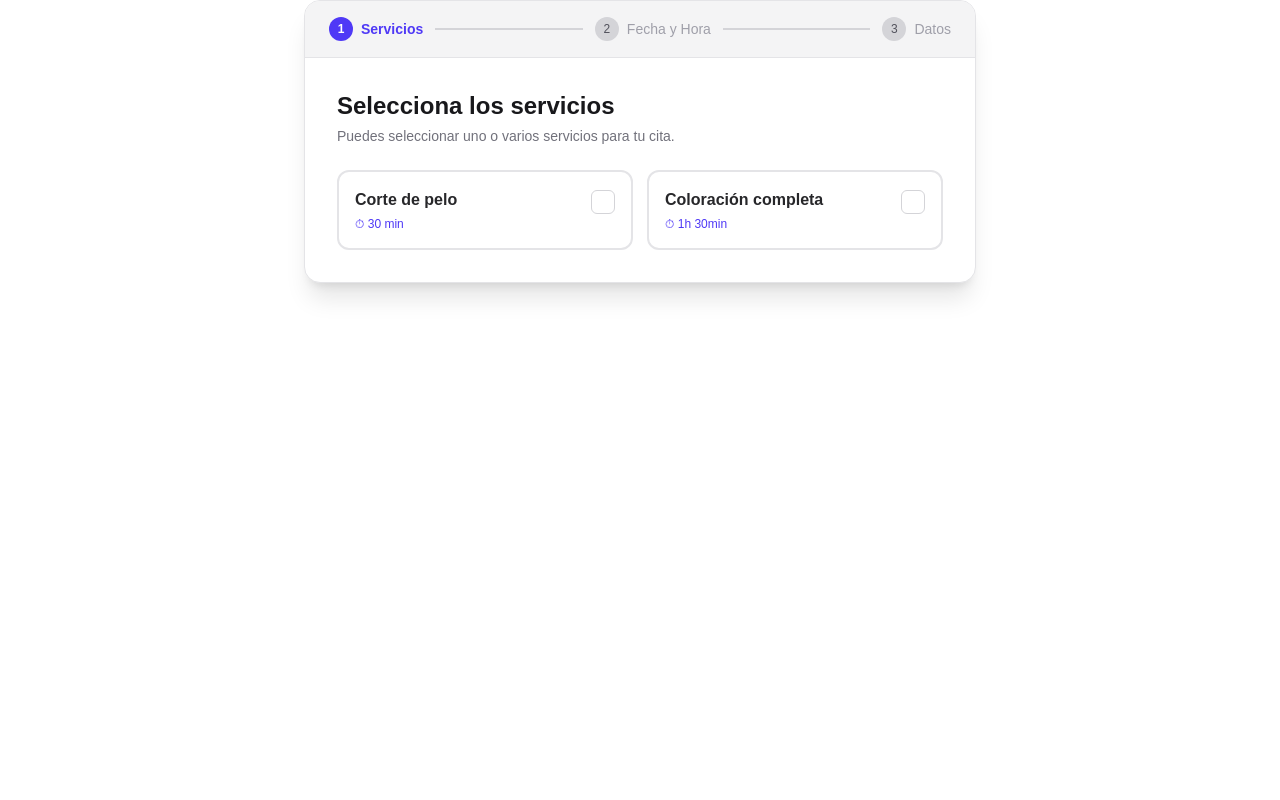
Test: BookingWizard Component › advances through the wizard steps to submit booking
Note: Select service and click Continuar
Click the text "Corte de pelo" at coordinates (406, 200), box x1=355 y1=188 x2=457 y2=212
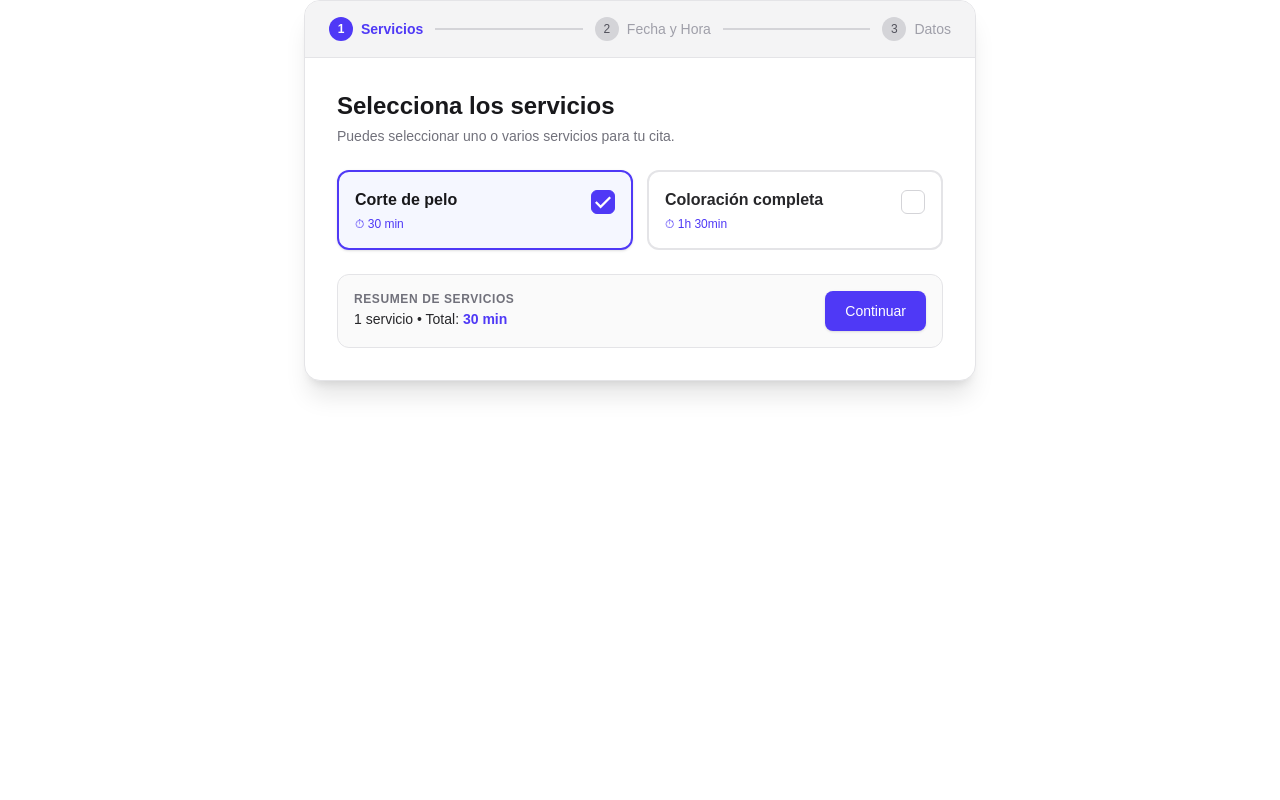
Click the button "Continuar" at coordinates (876, 311), box x1=825 y1=291 x2=926 y2=331
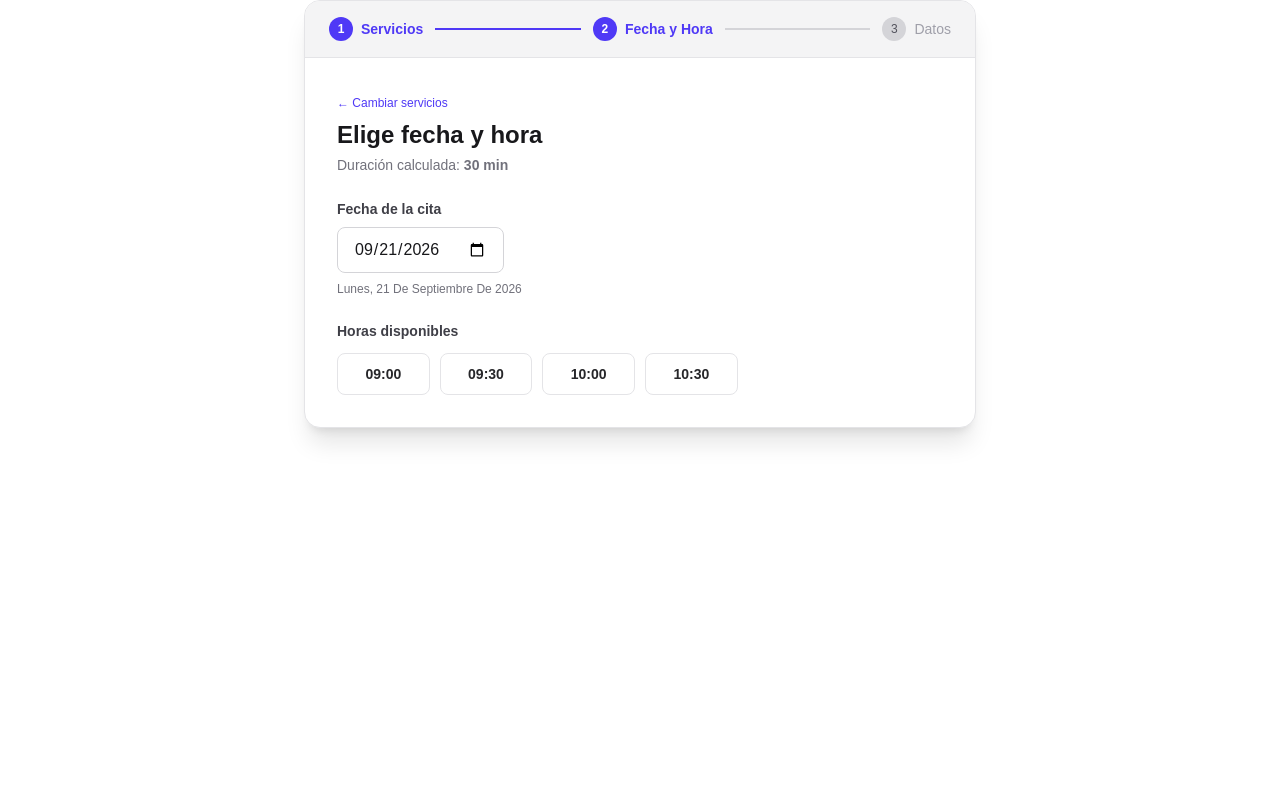
Now the heading "Elige fecha y hora" is shown, box x1=337 y1=121 x2=542 y2=148
Now the button "09:00" is shown
Note: Select 09:00
Click the button "09:00" at coordinates (383, 374), box x1=337 y1=353 x2=430 y2=395
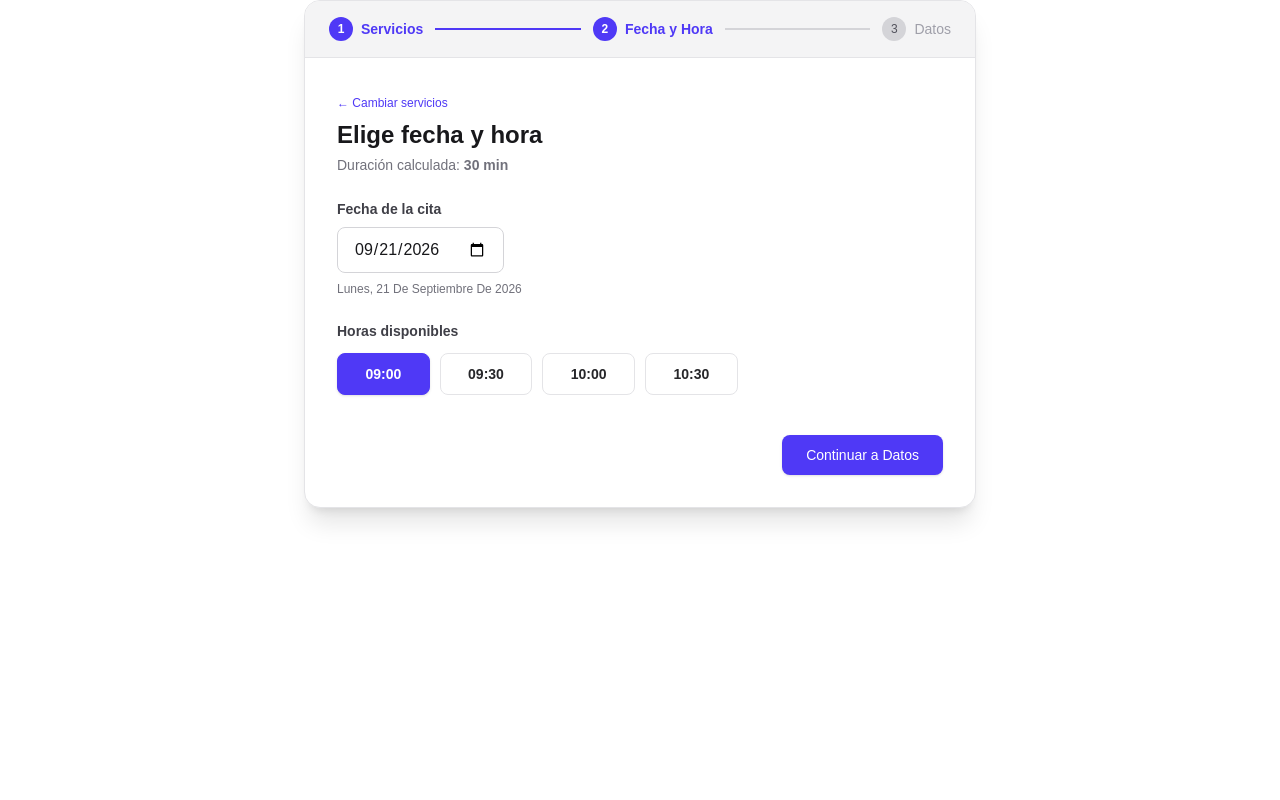
Note: Click Continuar a Datos
Click the button "Continuar a Datos" at coordinates (863, 455), box x1=782 y1=435 x2=943 y2=475
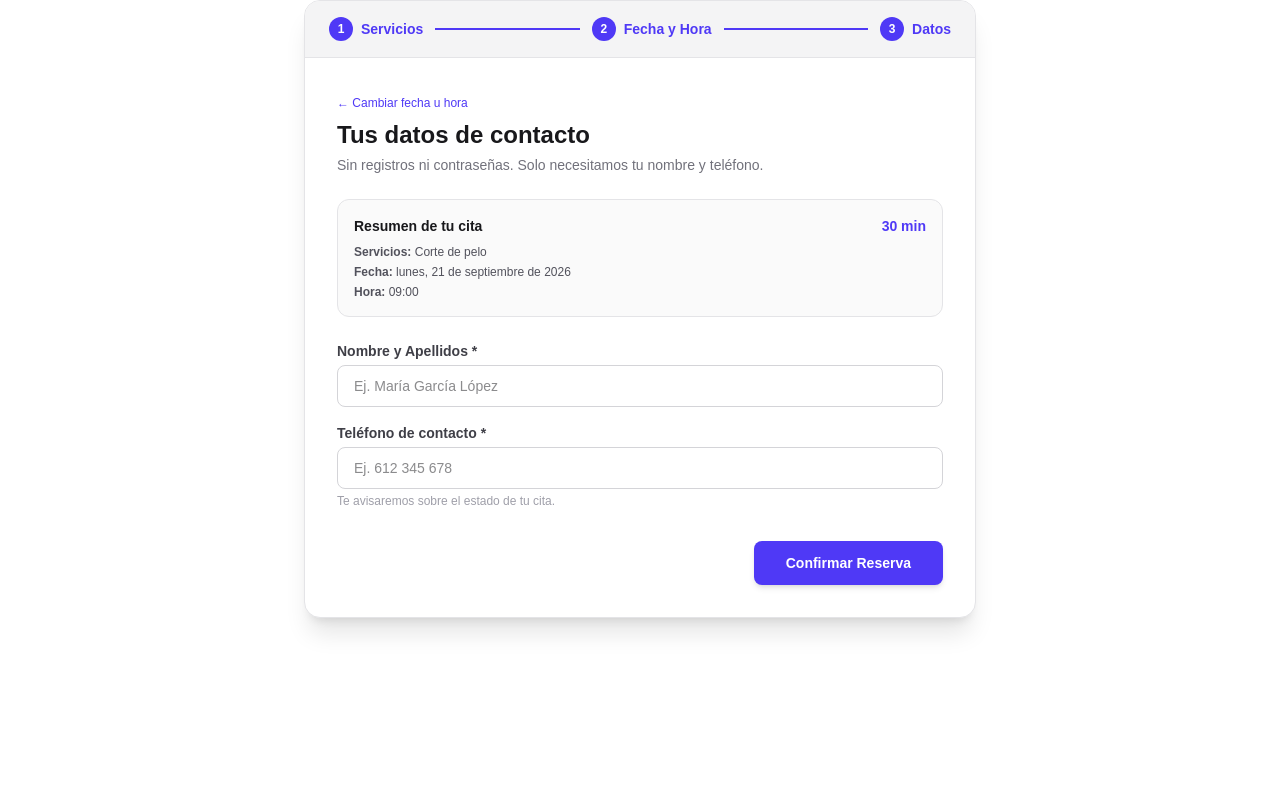
Now the heading "Tus datos de contacto" is shown, box x1=337 y1=121 x2=590 y2=148
Type "Juan García" into the field labelled "Nombre y Apellidos *" at coordinates (640, 386), box x1=337 y1=365 x2=943 y2=407
Type "612345678" into the field labelled "Teléfono de contacto *" at coordinates (640, 468), box x1=337 y1=447 x2=943 y2=489
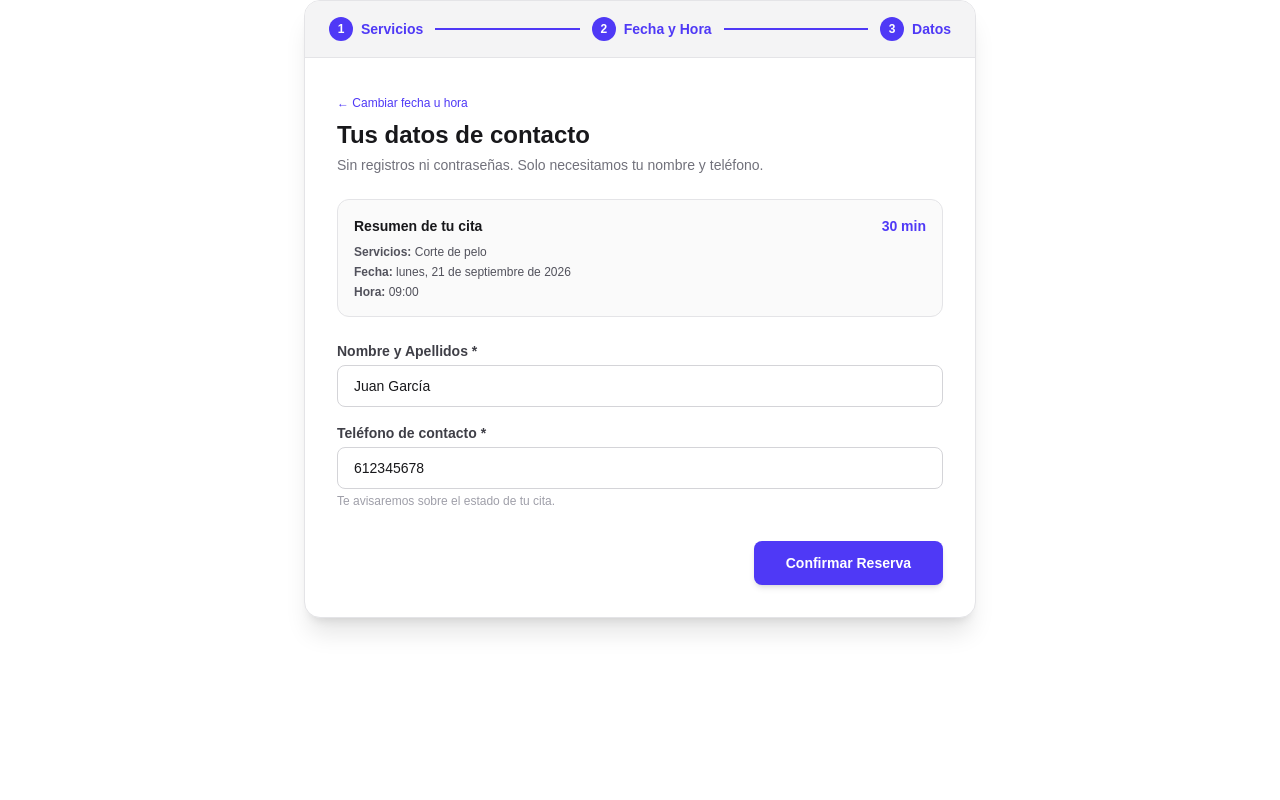
Note: Submit reservation
Click the button "Confirmar Reserva" at coordinates (848, 563), box x1=754 y1=541 x2=943 y2=585
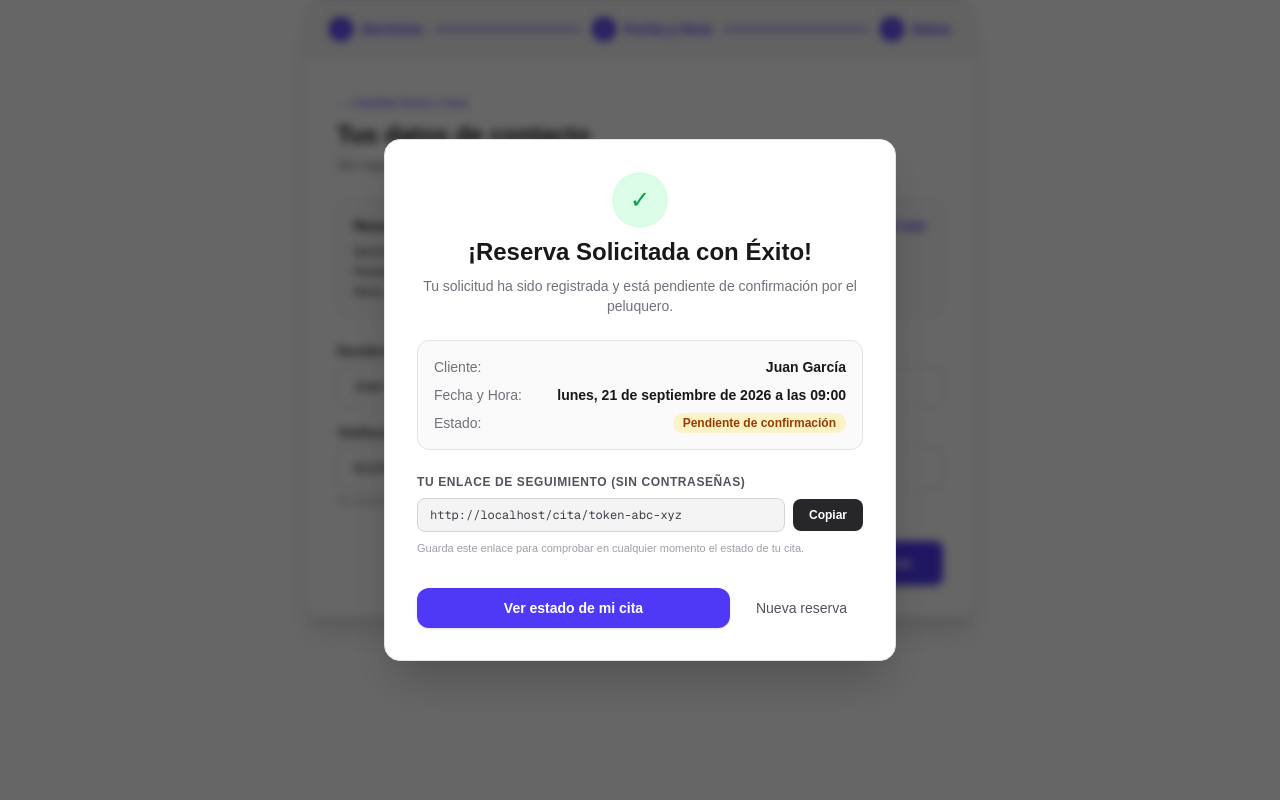
Now the heading "¡Reserva Solicitada con Éxito!" is shown, box x1=468 y1=238 x2=812 y2=265
Now the text "Juan García" is shown, box x1=766 y1=357 x2=846 y2=377
Now the text "Tu enlace de seguimiento (sin contraseñas)" is shown, box x1=417 y1=475 x2=745 y2=489
